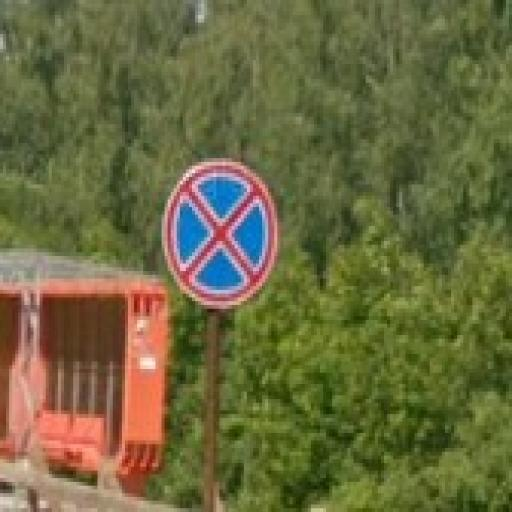traffic_sign: (163, 159, 279, 310)
